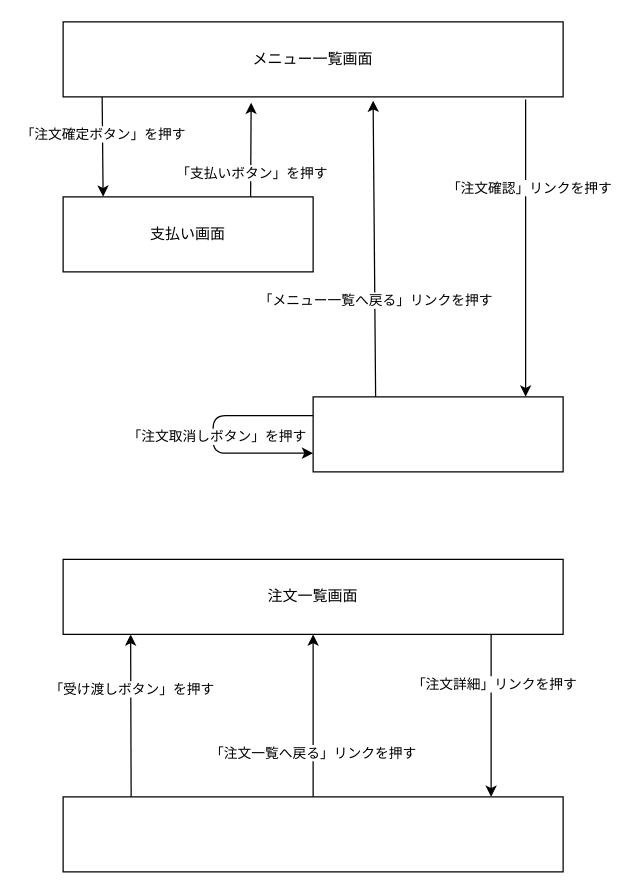
Image size: 634x894. Some labels were removed from this diagram. Each missing label, with the centre of its shape:
"注文確認画面" goes at point (437, 434).
"注文詳細画面" goes at point (312, 834).
